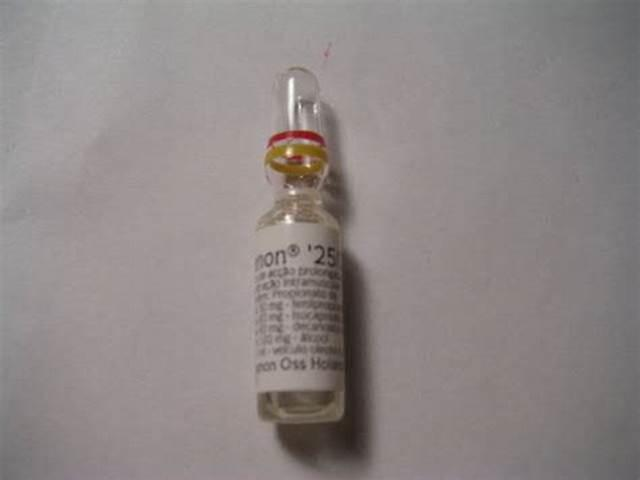Syringe: (241, 56, 356, 437)
